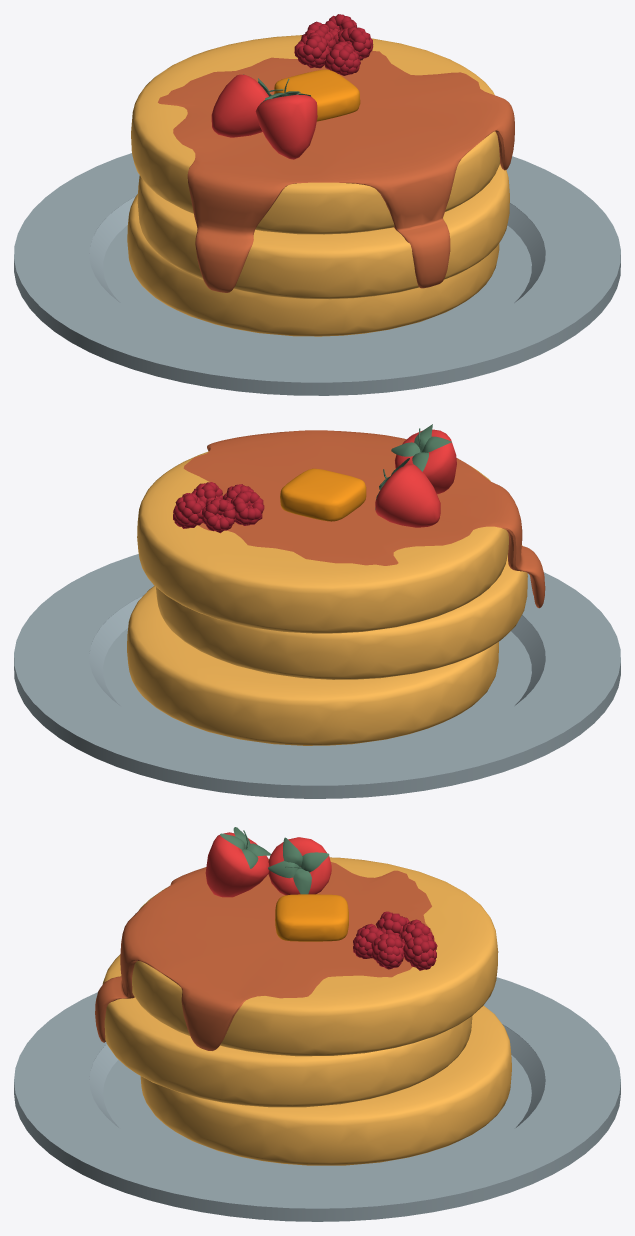
The model's file is pancakes.gltf.
The picture shows the model from 3 angles, top to bottom: view 1: azimuth 30°, elevation 25°; view 2: azimuth 150°, elevation 25°; view 3: azimuth 270°, elevation 25°; orthographic projection.
Visible parts, largest first — view 1: Cylinder, Cylinder.004, Cylinder.003, Cylinder.002, Cylinder.001, Circle.001, Cube; view 2: Cylinder, Cylinder.003, Cylinder.001, Cylinder.004, Cylinder.002, Circle.001, Cube; view 3: Cylinder, Cylinder.004, Cylinder.003, Cylinder.001, Cylinder.002, Circle.001, Cube.
Part boxes in pixels (<box>): Cylinder: <box>14,153,620,395</box>; Cylinder.004: <box>158,51,514,292</box>; Cylinder.003: <box>131,35,499,234</box>; Cylinder.002: <box>137,164,509,299</box>; Cylinder.001: <box>127,194,499,336</box>; Circle.001: <box>211,14,373,159</box>; Cube: <box>274,69,360,121</box>; Cylinder: <box>14,554,620,798</box>; Cylinder.003: <box>137,451,508,633</box>; Cylinder.001: <box>127,585,498,745</box>; Cylinder.004: <box>183,430,545,608</box>; Cylinder.002: <box>156,545,527,679</box>; Circle.001: <box>173,424,456,533</box>; Cube: <box>280,468,366,521</box>; Cylinder: <box>14,977,620,1221</box>; Cylinder.004: <box>95,862,432,1050</box>; Cylinder.003: <box>132,857,498,1056</box>; Cylinder.001: <box>140,1005,511,1165</box>; Cylinder.002: <box>102,954,472,1107</box>; Circle.001: <box>205,827,437,970</box>; Cube: <box>275,894,348,941</box>.
Size of the model in its own units: 2 by 0.8665 by 2.
Materials: 9 (9 with a texture image).
